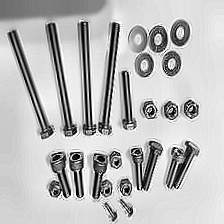good: (1, 1, 221, 224)
